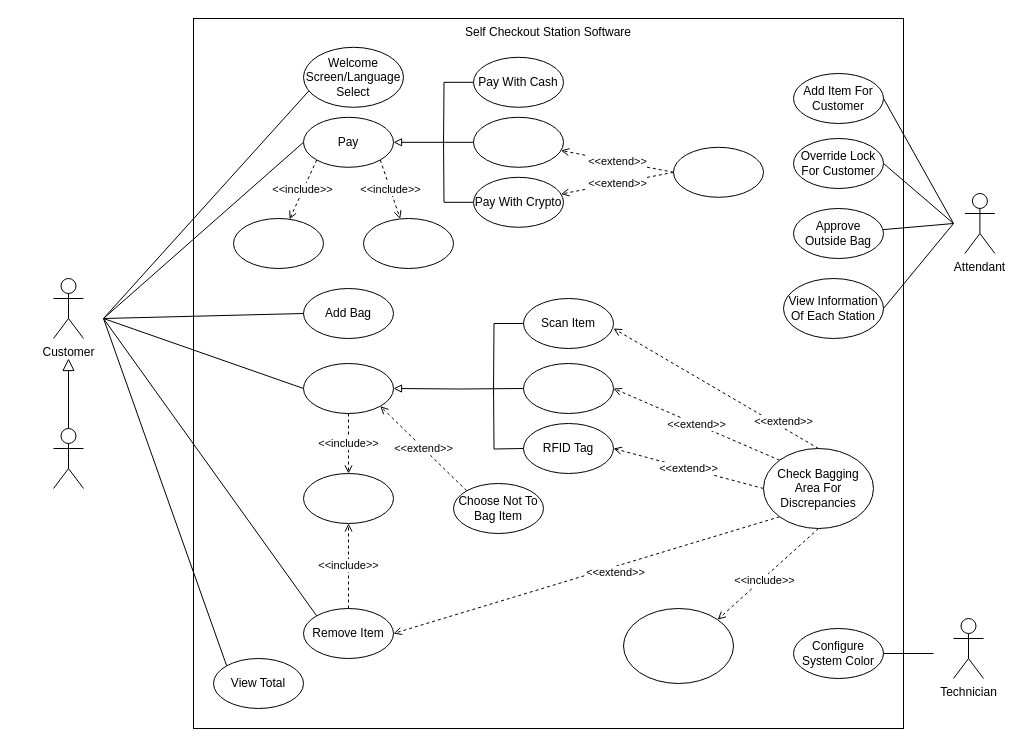
This 1022x746 diagram has some shape labels left out. The shapes that lost their labels are listed below. From the top down, each one's box as (x1, y1, x2, y2) in pixels, then its label:
(472, 116, 564, 167): Pay With Card
(672, 146, 764, 197): Insufficient Funds
(232, 218, 324, 268): Print Receipt
(362, 218, 454, 268): Thank Customer
(302, 362, 394, 414): Add item
(522, 362, 614, 414): Price Lookup
(52, 428, 84, 488): Impaired Customer
(302, 472, 394, 524): Update Total
(622, 608, 734, 684): Lock System
